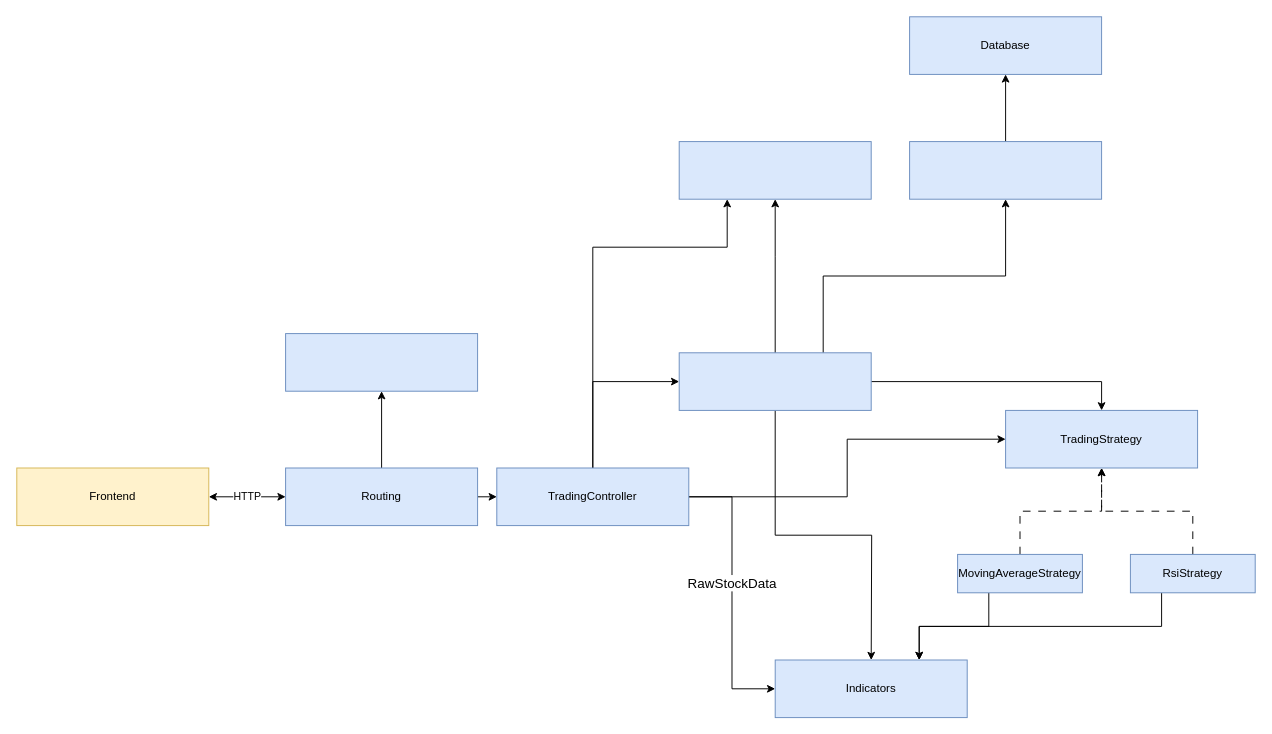
This 1272x734 diagram has some shape labels left out. Each missing label, with the centre of its shape:
"AlpacaRepository" goes at (x=774, y=170).
"TraderService" goes at (x=1005, y=170).
"TradingBot" goes at (x=774, y=381).
"ValidatorService" goes at (x=381, y=362).
